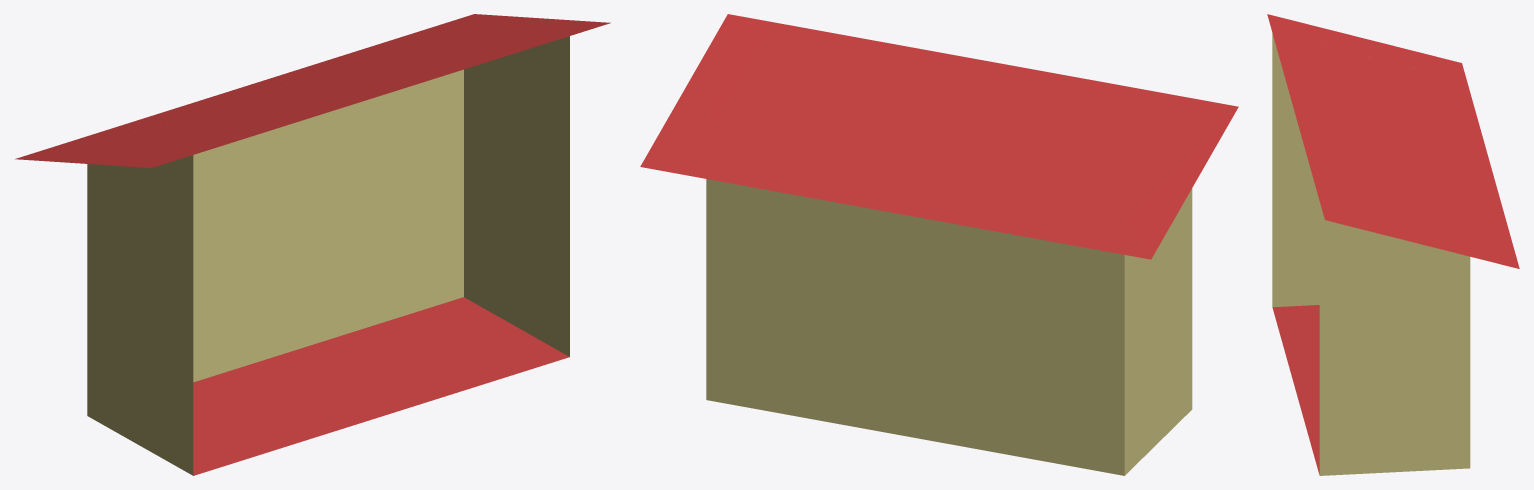
3 views of the same model, side by side, from view 1: azimuth 30°, elevation 25°; view 2: azimuth 150°, elevation 25°; view 3: azimuth 270°, elevation 25° (orthographic). The views are drawn at different scales.
Size of the model in its own units: 11.46 by 5.67 by 6.8.
